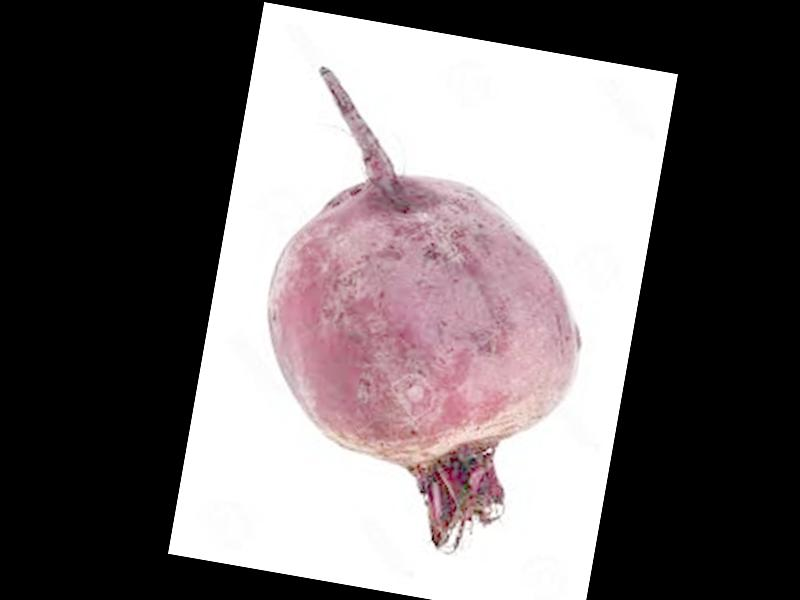Beet: (229, 64, 619, 568)
